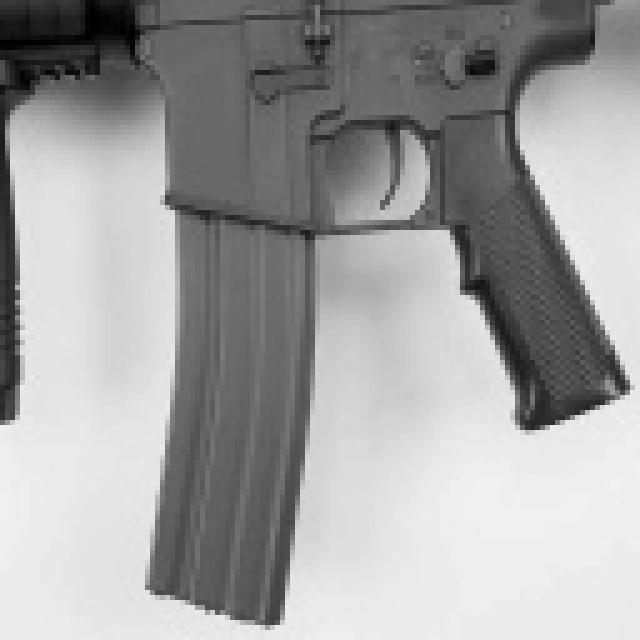Rifle: (9, 3, 636, 537)
